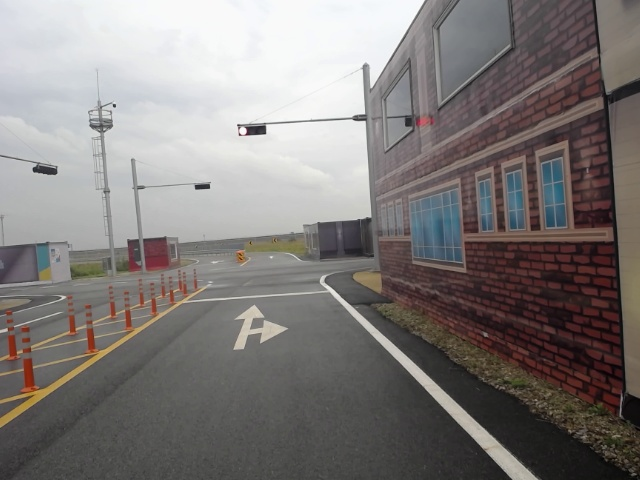red_3: (239, 125, 265, 136)
